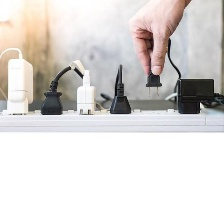three_eye_plug: (0, 101, 224, 134)
